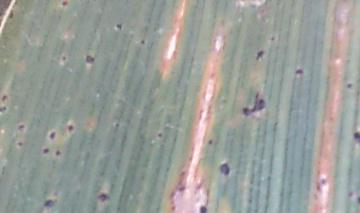tarspot: (240, 90, 267, 117), (218, 162, 231, 178), (95, 192, 113, 203), (47, 128, 58, 142), (83, 54, 96, 65), (254, 49, 265, 61), (41, 146, 52, 157), (352, 131, 360, 145), (43, 198, 53, 209), (113, 21, 124, 31), (293, 67, 305, 76), (17, 122, 27, 132), (66, 122, 75, 133), (1, 92, 10, 103), (7, 8, 15, 20), (1, 164, 8, 177), (244, 2, 256, 9), (15, 139, 24, 148), (1, 104, 9, 114), (320, 176, 326, 188), (51, 189, 59, 198), (54, 148, 61, 158), (198, 205, 206, 213), (155, 131, 163, 139), (269, 34, 276, 43), (60, 54, 67, 63), (345, 82, 353, 89), (356, 192, 360, 206), (346, 190, 353, 198), (206, 139, 214, 146), (60, 1, 68, 8), (139, 38, 146, 46), (219, 98, 228, 104), (113, 122, 119, 130)
